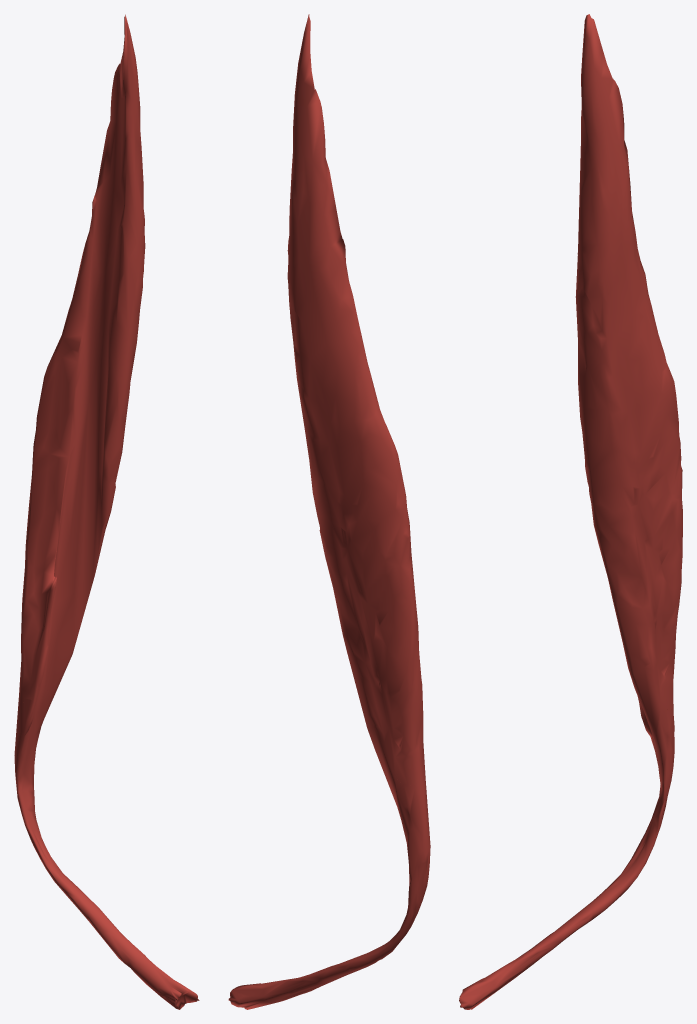
File: musculos-fibularis-brevis-muscle-l.glb
3 views of the same model, side by side, from view 1: azimuth 30°, elevation 25°; view 2: azimuth 210°, elevation 25°; view 3: azimuth 270°, elevation 25° (orthographic). The views are drawn at different scales.
Parts seen in each view (by area): view 1: Fibularis brevis muscle.l; view 2: Fibularis brevis muscle.l; view 3: Fibularis brevis muscle.l.
Boxes of the visible parts, x1,y1,x2,y2 form: Fibularis brevis muscle.l: (14,14,199,1009); Fibularis brevis muscle.l: (228,14,430,1009); Fibularis brevis muscle.l: (459,14,682,1009).
Size of the model in its own units: 0.0283 by 0.2689 by 0.0548.
